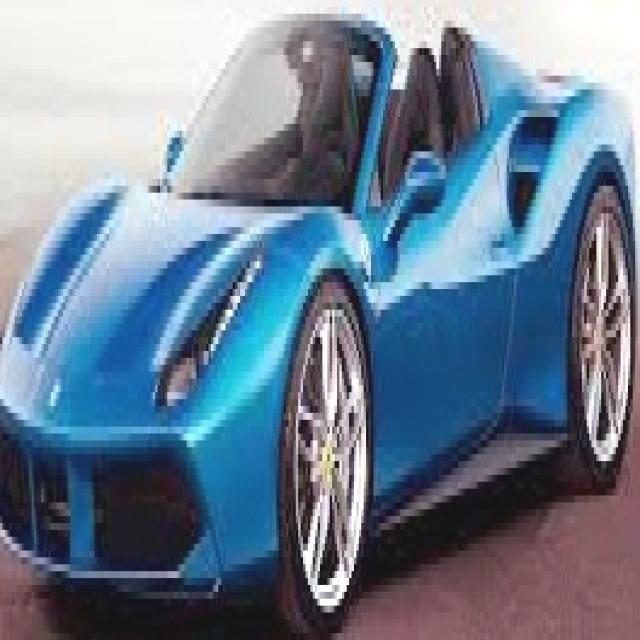blue: (2, 0, 628, 640)
